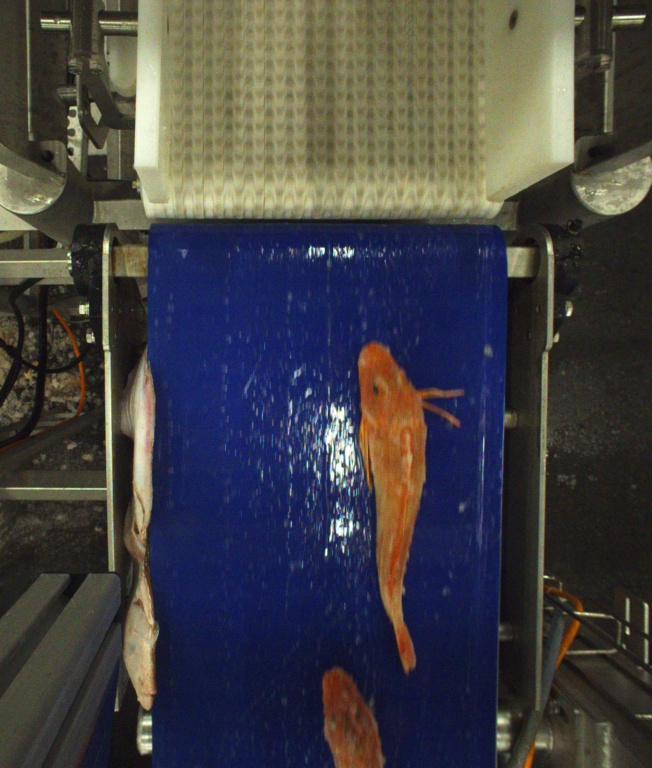GUU: (353, 343, 459, 671)
